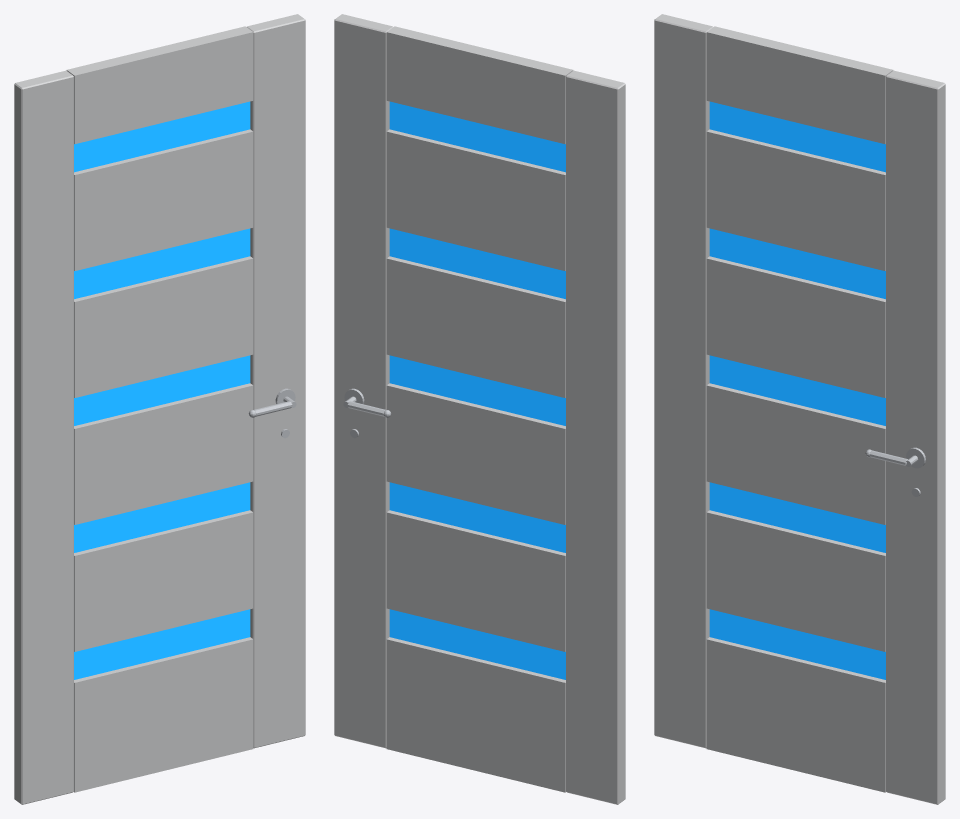
Rendered from porta_frisos_vidro_branca.glb.
3 renders of one model, left to right at view 1: azimuth 30°, elevation 25°; view 2: azimuth 150°, elevation 25°; view 3: azimuth 330°, elevation 25°, orthographic.
Parts seen in each view (by area): view 1: porta_frisos_vidro_branca; view 2: porta_frisos_vidro_branca; view 3: porta_frisos_vidro_branca.
Part boxes in pixels (x1,y1,x2,y2): porta_frisos_vidro_branca: (14,14,305,804); porta_frisos_vidro_branca: (334,14,625,804); porta_frisos_vidro_branca: (654,14,945,804).
Size of the model in its own units: 0.86 by 2.07 by 0.143.
